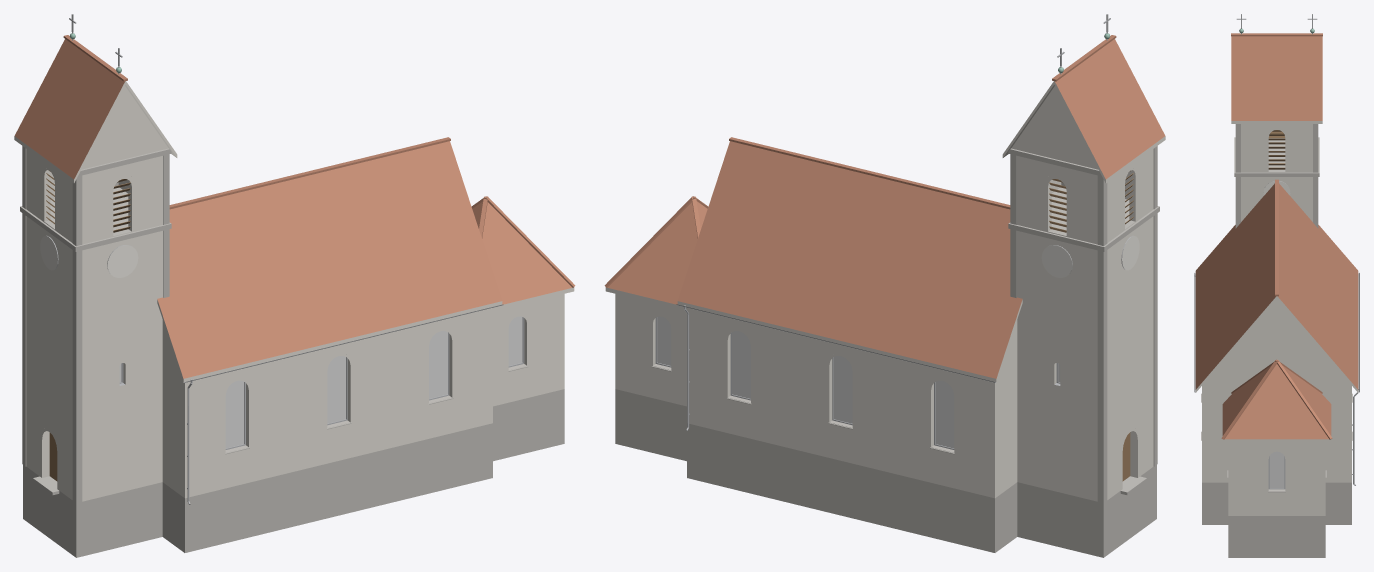
The model's file is church_saddle_m.glb.
3 views of the same model, side by side, from view 1: azimuth 30°, elevation 25°; view 2: azimuth 150°, elevation 25°; view 3: azimuth 270°, elevation 25° (orthographic). The views are drawn at different scales.
Visible parts, largest first — view 1: church_saddle_m; view 2: church_saddle_m; view 3: church_saddle_m.
Part boxes in pixels (left/top/right/bottom): church_saddle_m: left=14, top=14, right=575, bottom=557; church_saddle_m: left=604, top=14, right=1165, bottom=557; church_saddle_m: left=1194, top=14, right=1359, bottom=557.
Bounding box in the file's own units: 32.31 × 30.75 × 12.15.
